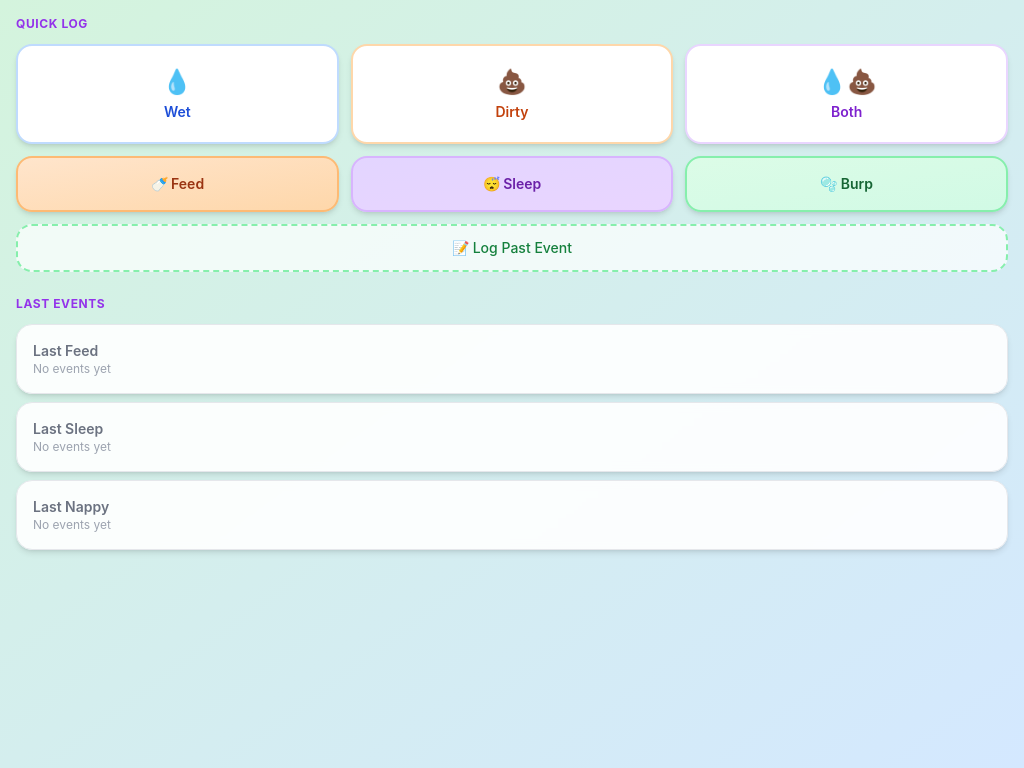
it: Dashboard — add details chip › dismisses the chip when the close button is clicked
Click the button "💧 Wet".
click(177, 94)  # box left=16, top=44, right=339, bottom=144
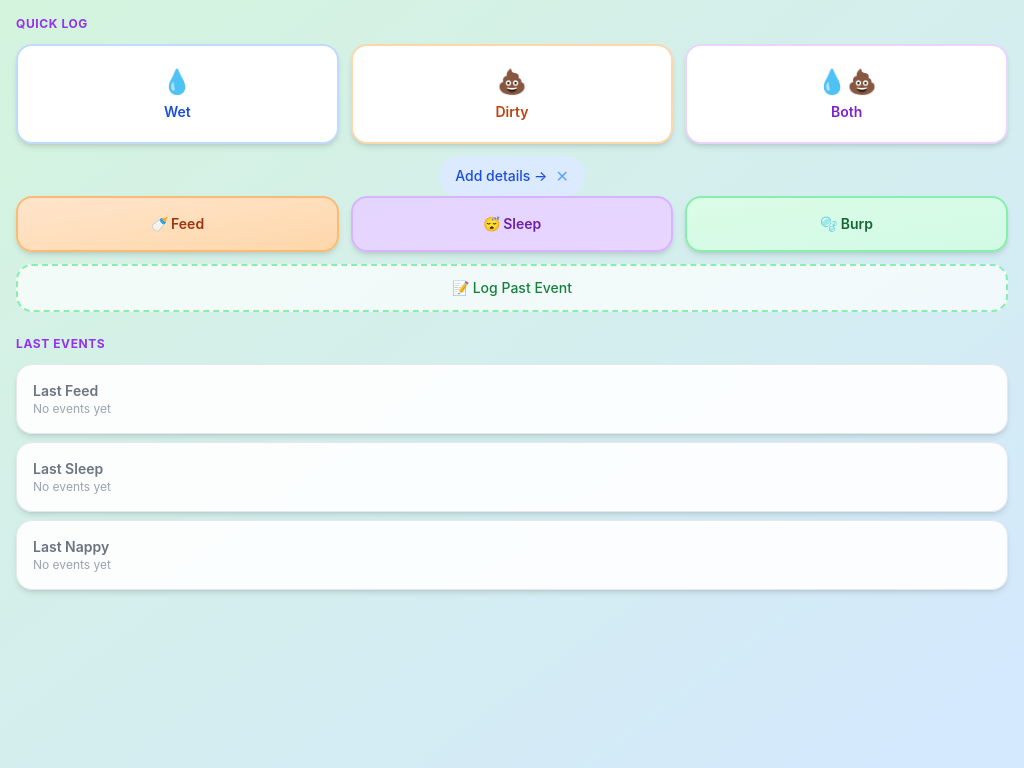
expect the button "Add details →" is shown: met, box left=455, top=166, right=547, bottom=186
Click the button named "Dismiss".
click(562, 176)  # box left=555, top=164, right=569, bottom=188
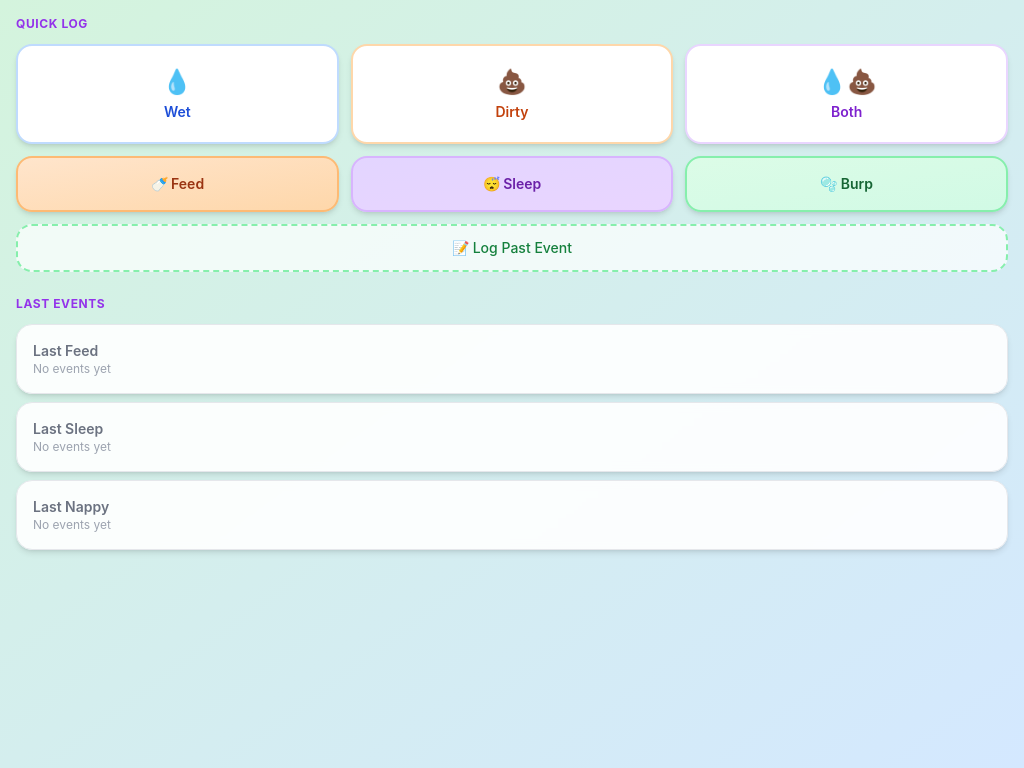
expect the button "Add details" is gone: met
